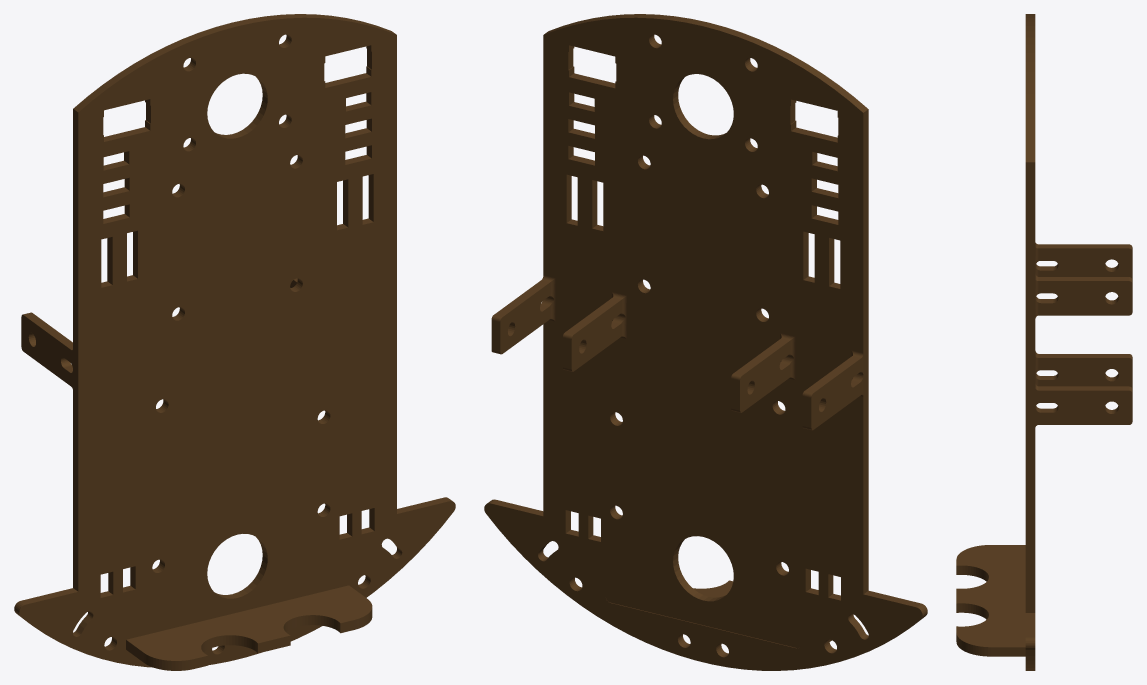
Rendered from Chassis.dae.
The picture shows the model from 3 angles, left to right: view 1: azimuth 30°, elevation 25°; view 2: azimuth 150°, elevation 25°; view 3: azimuth 270°, elevation 25°; orthographic projection. The views are drawn at different scales.
Parts seen in each view (by area): view 1: Node_00000125F845D750 (×2); view 2: Node_00000125F845D750 (×2); view 3: Node_00000125F845D750 (×2).
Boxes of the visible parts, x1,y1,x2,y2 form: Node_00000125F845D750 (×2): (14,14,455,670); Node_00000125F845D750 (×2): (484,14,927,670); Node_00000125F845D750 (×2): (956,14,1132,670).
Size of the model in its own units: 0.137 by 0.19 by 0.0509.
